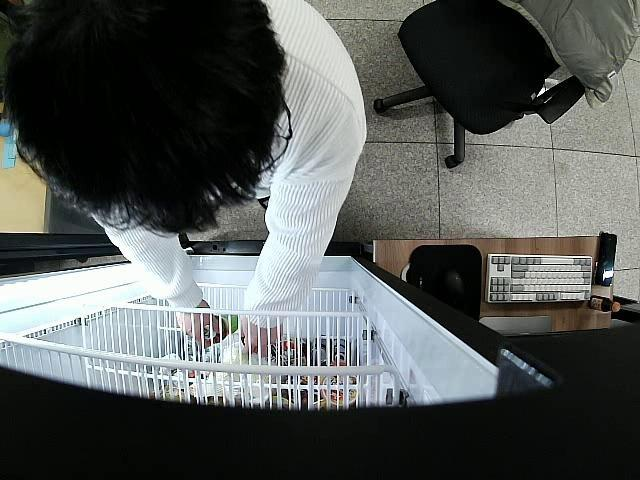19_17cha: (200, 314, 237, 340)
